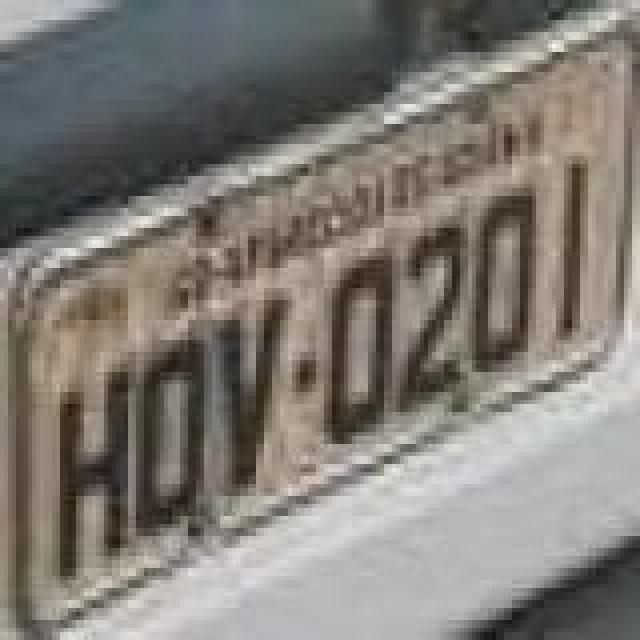1: (556, 150, 588, 346)
2: (394, 222, 470, 418)
H: (58, 364, 134, 580)
O: (130, 342, 206, 538), (326, 254, 394, 450), (470, 186, 538, 374)
V: (214, 294, 290, 490)
